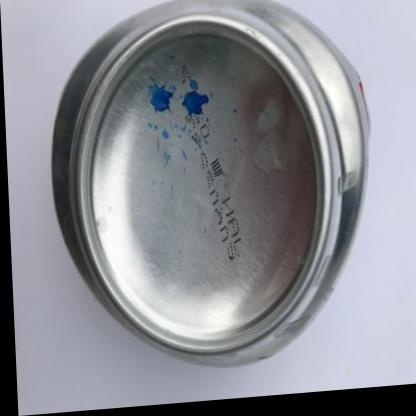trash: (53, 0, 368, 364)
